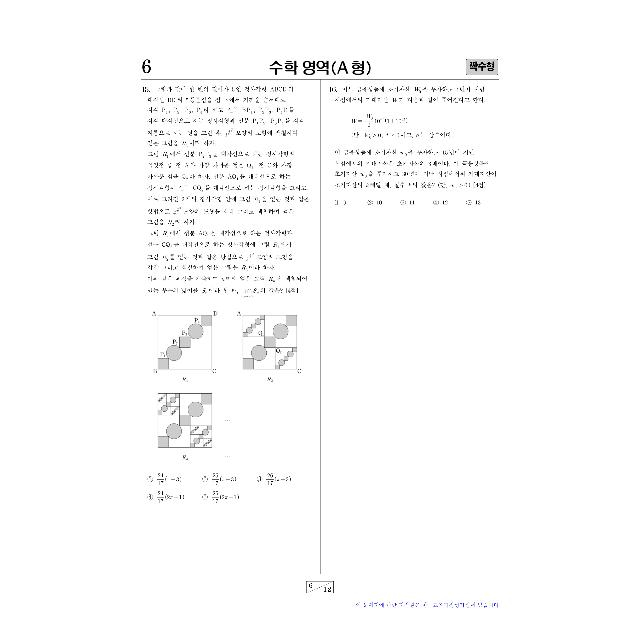multiple: (138, 82, 316, 512), (323, 82, 501, 212)
